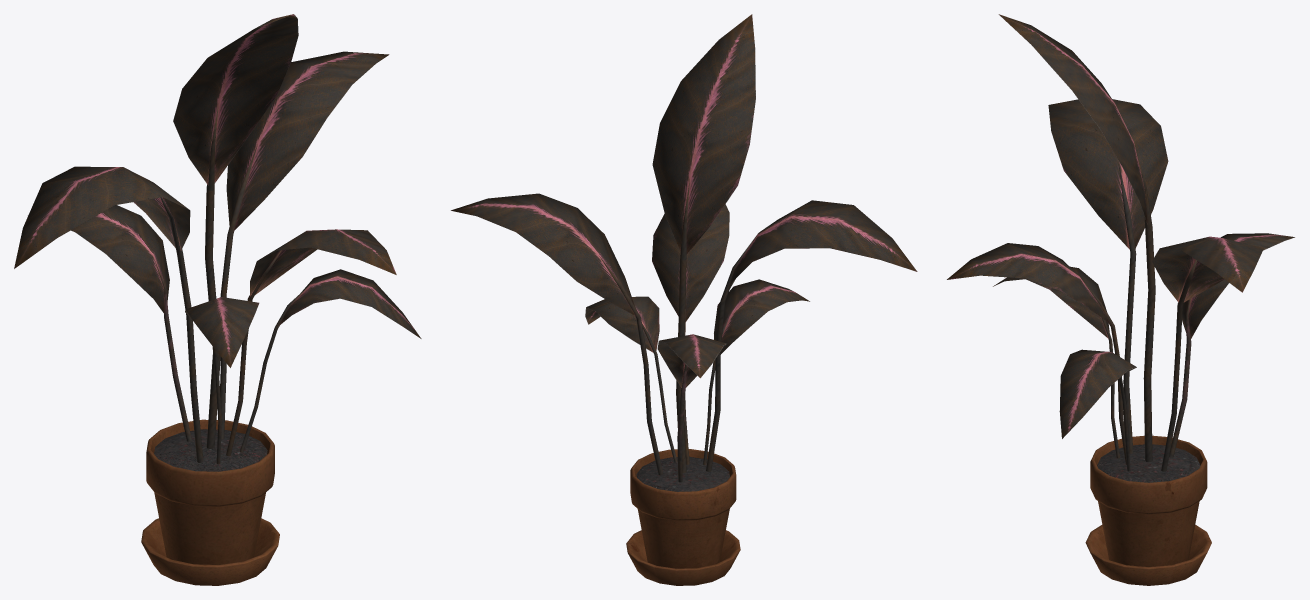
File: plante.glb
The picture shows the model from 3 angles, left to right: view 1: azimuth 30°, elevation 25°; view 2: azimuth 150°, elevation 25°; view 3: azimuth 270°, elevation 25°; orthographic projection. The views are drawn at different scales.
Visible parts, largest first — view 1: plant-material; view 2: plant-material; view 3: plant-material.
Part boxes in pixels (box(x1,y1,x2,y2)): plant-material: box(14, 14, 421, 585); plant-material: box(451, 14, 917, 585); plant-material: box(947, 14, 1294, 585).
Size of the model in its own units: 1.02 by 1.26 by 0.7252.
Materials: 1 (1 with a texture image).
